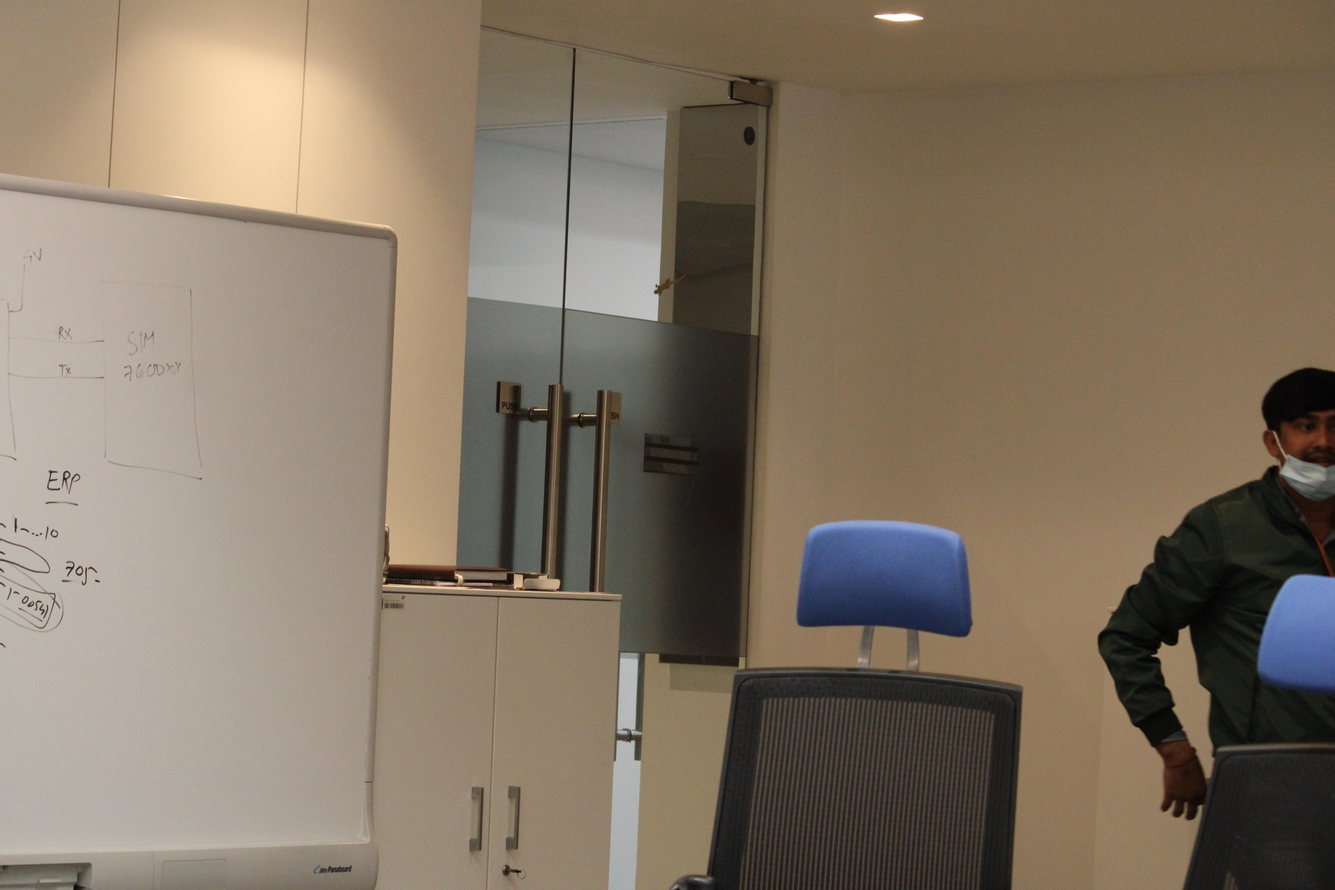lizard: (646, 267, 683, 305)
